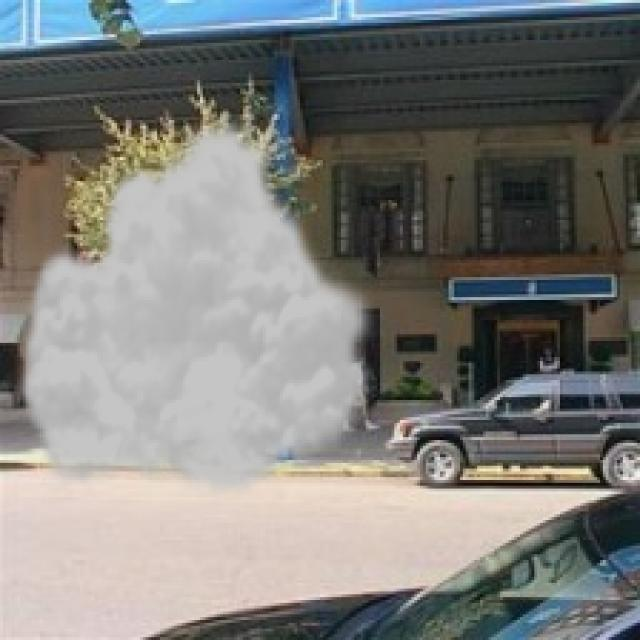smoke: (11, 111, 383, 500)
